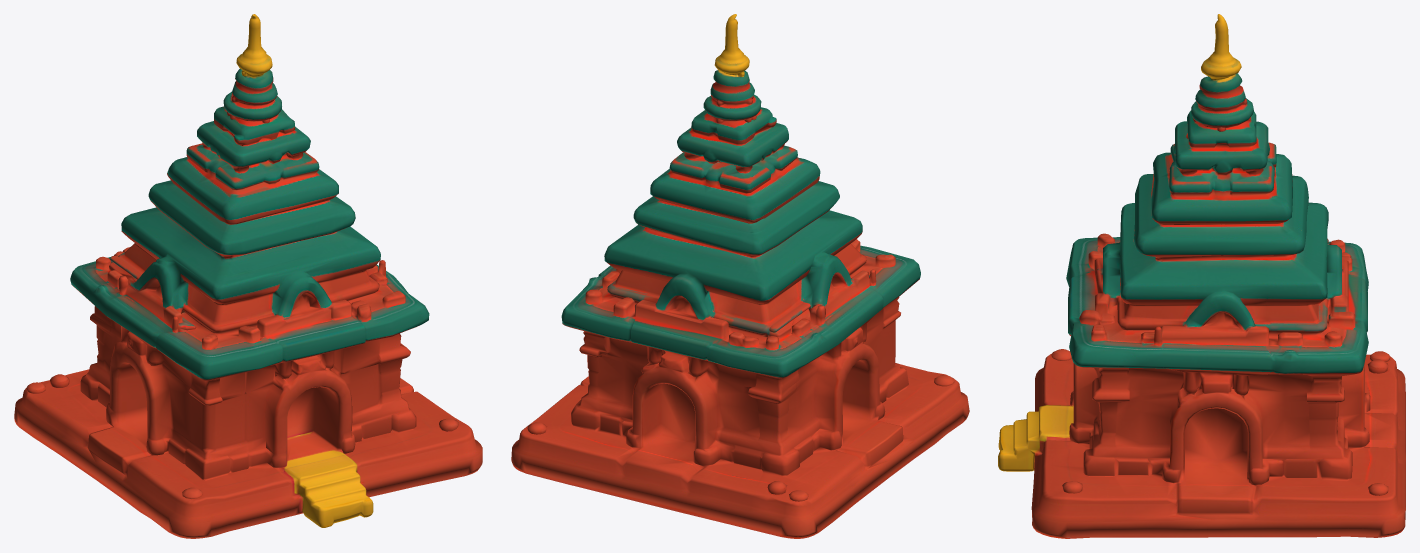
The model's file is myan-envi-3.glb.
The picture shows the model from 3 angles, left to right: view 1: azimuth 30°, elevation 25°; view 2: azimuth 150°, elevation 25°; view 3: azimuth 270°, elevation 25°; orthographic projection. The views are drawn at different scales.
Visible parts, largest first — view 1: tripo_node_a3efda90-4fcf-426d-9175-31cf3d8c7cee; view 2: tripo_node_a3efda90-4fcf-426d-9175-31cf3d8c7cee; view 3: tripo_node_a3efda90-4fcf-426d-9175-31cf3d8c7cee.
Part boxes in pixels (box(x1,y1,x2,y2)): tripo_node_a3efda90-4fcf-426d-9175-31cf3d8c7cee: box(14, 14, 482, 538); tripo_node_a3efda90-4fcf-426d-9175-31cf3d8c7cee: box(511, 14, 969, 538); tripo_node_a3efda90-4fcf-426d-9175-31cf3d8c7cee: box(998, 14, 1405, 538).
Size of the model in its own units: 0.7563 by 0.9995 by 0.8208.
Materials: 1 (1 with a texture image).
